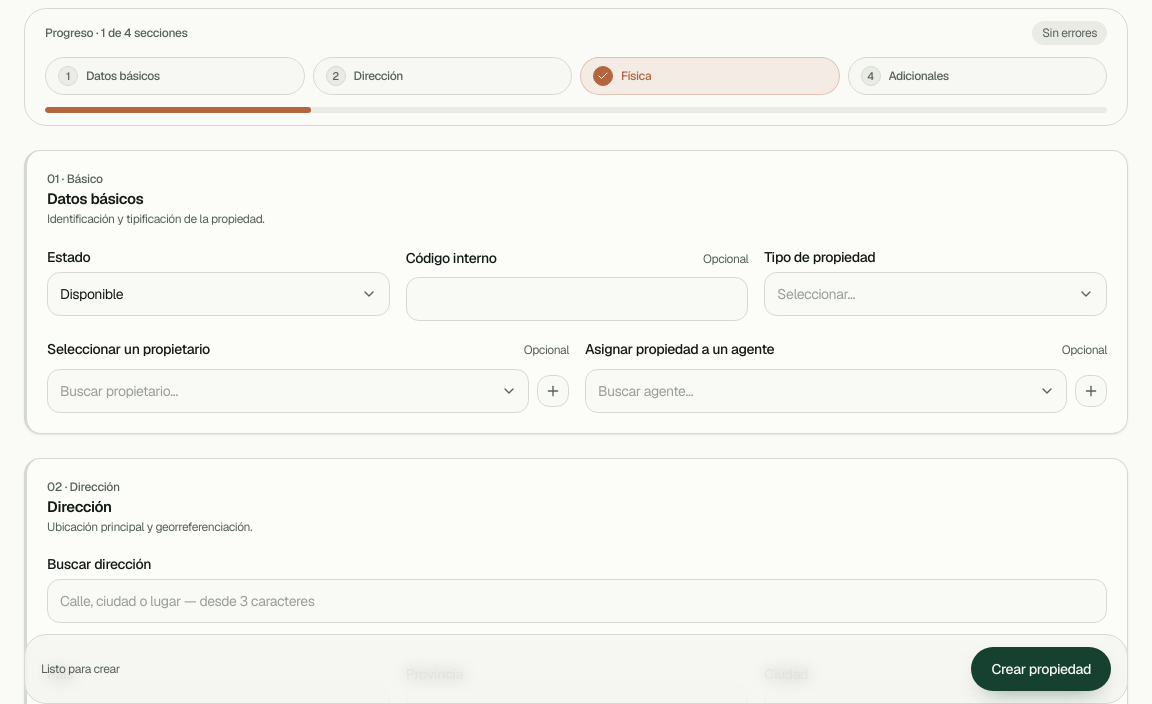
Test case: PropertyCreateForm › blocks the server action when required fields are missing and flags the controls
Click the button "Crear propiedad" at (1041, 669), box [972, 647, 1111, 691]
(page scrolled)
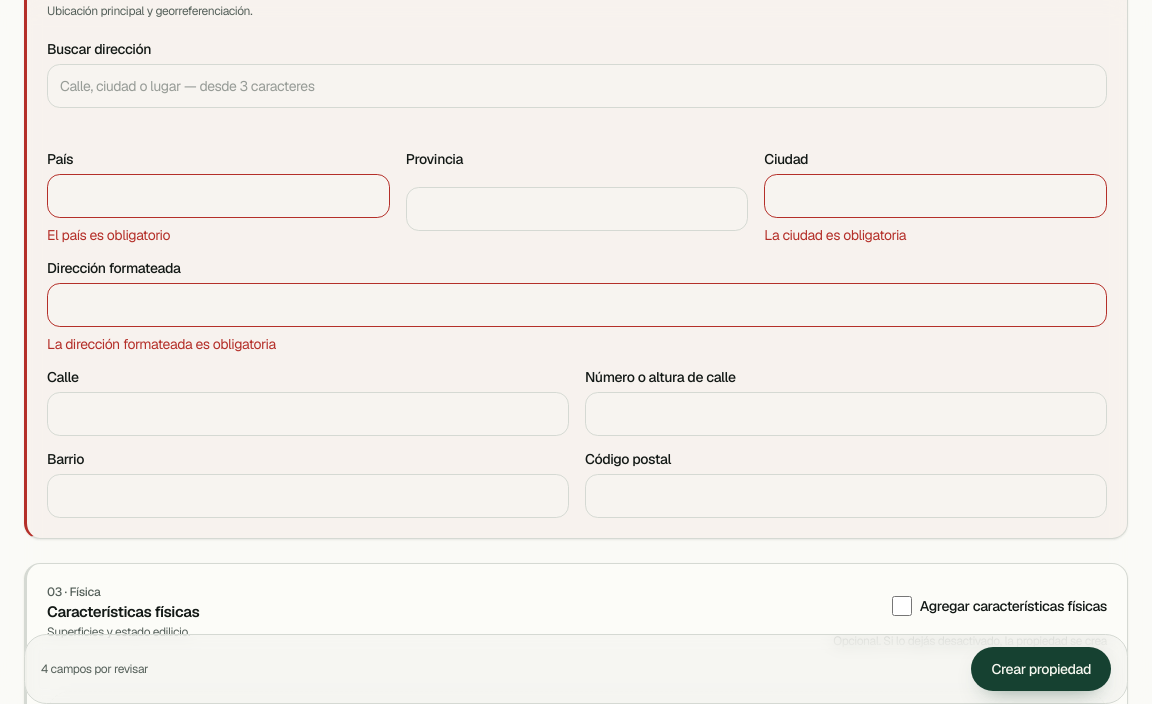
Expected: the text "La dirección formateada es obligatoria" is shown, [47, 335, 276, 353]
